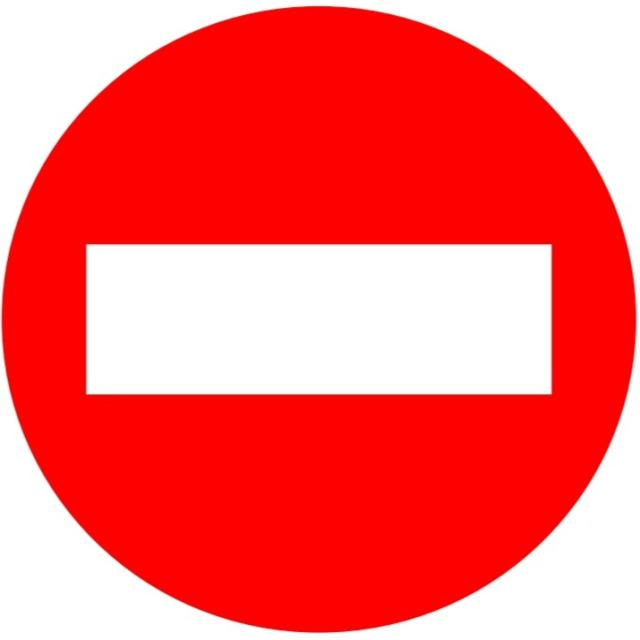no_entry: (1, 2, 640, 634)
